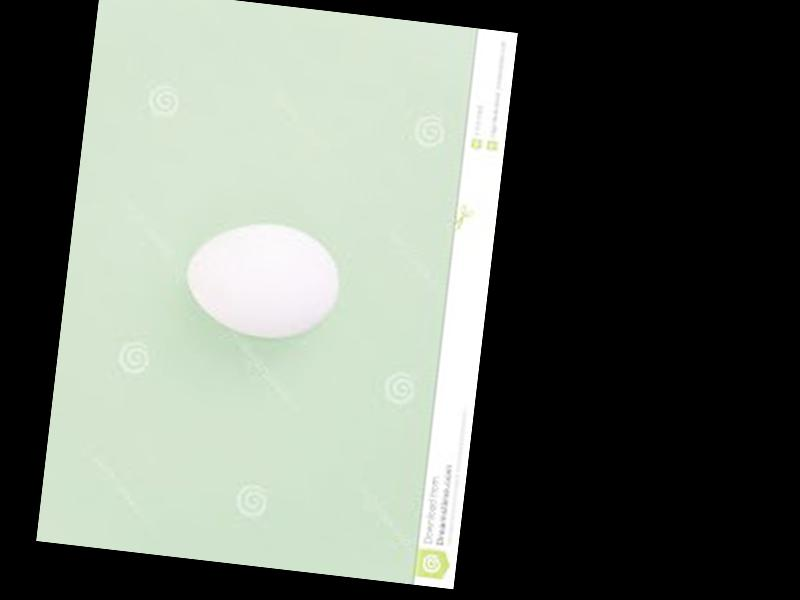Eggs: (182, 217, 344, 346)
